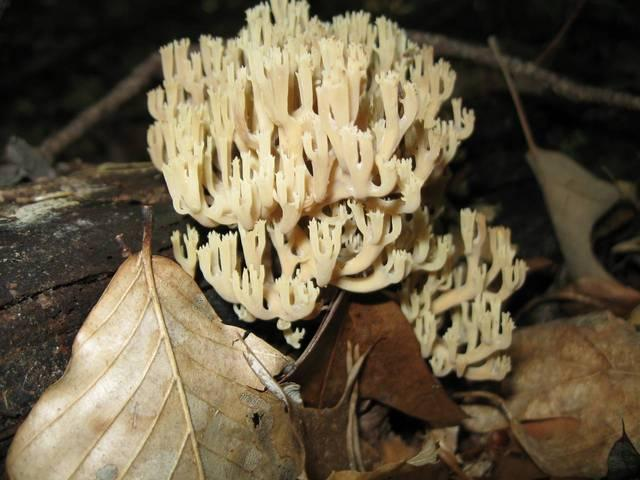edible_mushroom: (143, 0, 476, 346), (398, 206, 530, 382)
